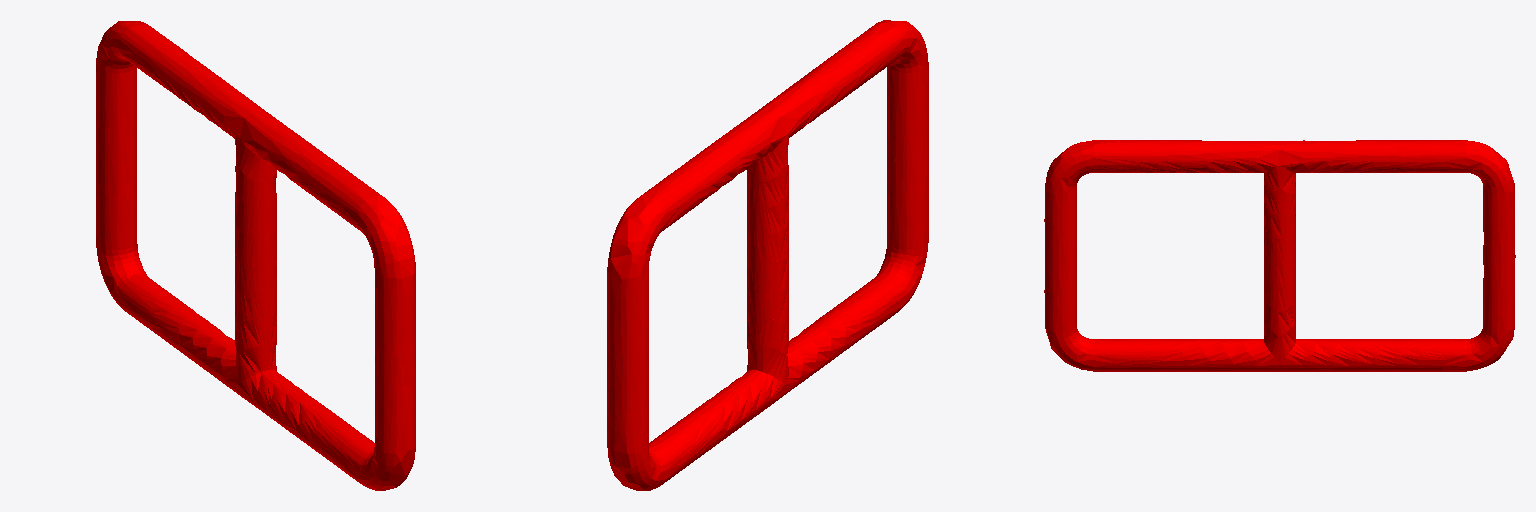
The robot description file, URDF, robot "perch":
<?xml version="1.0" encoding="utf-8"?>

<robot name="perch">

  <link name="base">
    <inertial>
      <origin xyz="0 0 0" />
      <mass value="0.01" />
      <inertia  ixx="0.3" ixy="0.0"  ixz="0.0"  iyy="0.3"  iyz="0.0"  izz="0.3" />
    </inertial>
    <visual>
      <origin xyz="0 0 0" rpy="1.570796 0 1.570796 "/>
      <geometry>
        <mesh filename="package://rexrov_dual_oberon_description/objects/perch_structure/perch_remesh.stl"/>
      </geometry>
      <material name="">
        <color rgba="1 0 0 1"/>
      </material>
    </visual>
    <collision>
      <origin xyz="0 0 0" rpy="1.570796 0 1.570796 "/>
      <geometry>
        <mesh filename="package://rexrov_dual_oberon_description/objects/perch_structure/perch_remesh.stl"/>
      </geometry>
    </collision>
  </link>

<!--   <gazebo reference="base">
    <mu1>1.0</mu1>
    <mu2>1.0</mu2>
    <minDepth>0.003</minDepth>  
    <maxVel>0</maxVel>  
  </gazebo> -->

 
</robot>

--- Render facts (derived) ---
Views: 3 orthographic renders of the robot side by side, from view 1: azimuth 30°, elevation 25°; view 2: azimuth 150°, elevation 25°; view 3: azimuth 270°, elevation 25°.
Robot: perch — 1 links, 0 joints (none); root link base; default pose: every joint at zero.
Visible links, largest first — view 1: base; view 2: base; view 3: base.
Link boxes in pixels (left/top/right/bottom): base: left=96, top=21, right=415, bottom=490; base: left=607, top=20, right=928, bottom=490; base: left=1044, top=140, right=1515, bottom=371.
Bounding box of the posed robot: 0.2988 × 4.29 × 2.3 m (x, y, z).
1 mesh visuals loaded from 1 distinct referenced files (1 binary STL).